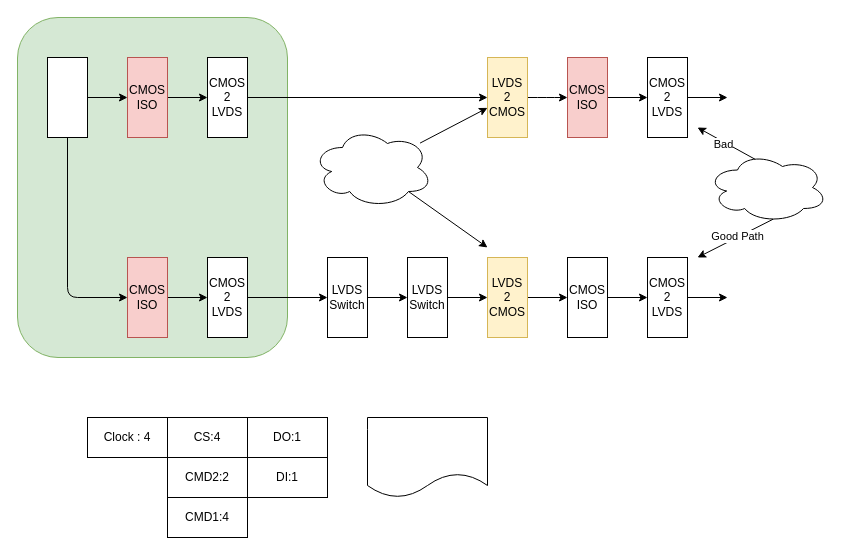
Some shapes in this 845 by 555 pixel diagram are drawn without their labels. The shapes that lost their labels are listed below. From the top down, each one's box as (x1, y1, x2, y2) in pixels, then its label:
(46, 56, 88, 138): FPGA
(16, 16, 288, 358): XDAQ
(312, 126, 432, 208): FanOut Issue?
(706, 152, 828, 222): Bad Path diff in 1,2
(366, 416, 488, 498): LVDS ISO
